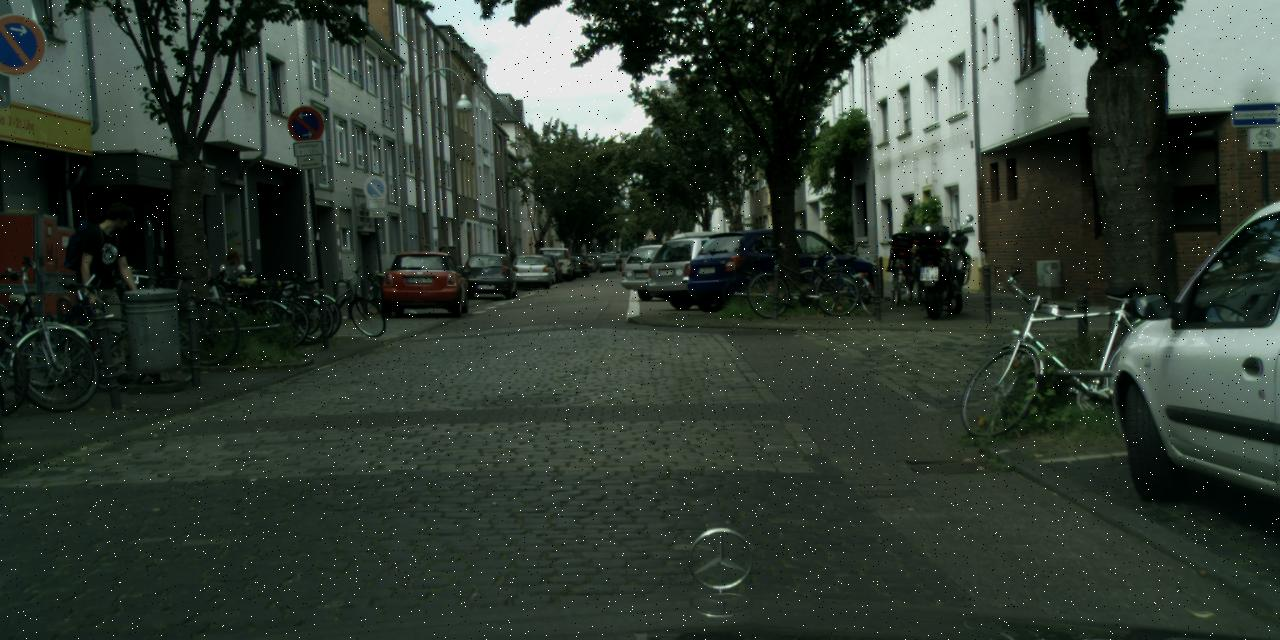ped: (76, 202, 148, 380), (178, 231, 220, 333), (218, 248, 250, 328), (614, 249, 621, 269)
